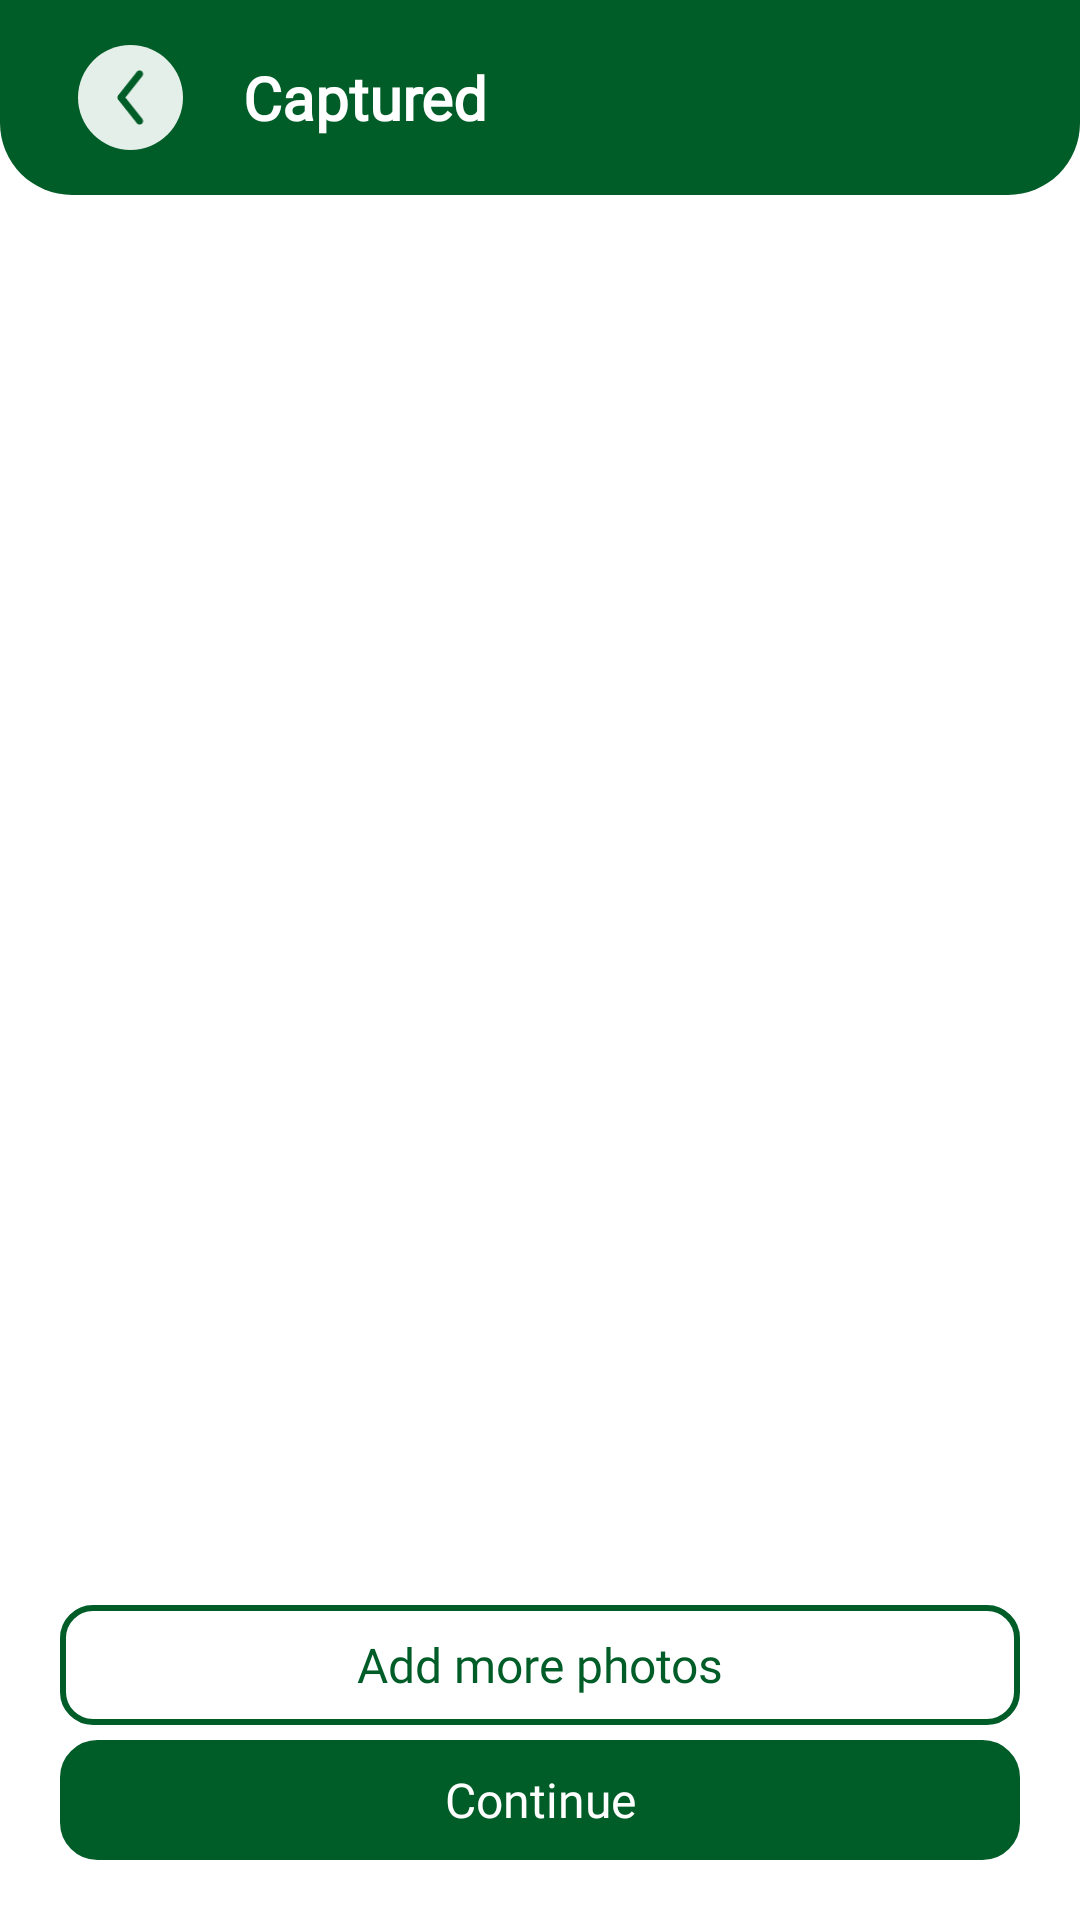

Named icons in this screenshot (1080 × 1920) and their bounding boxes, rect(x1, y1, x2, y2):
Back: rect(78, 45, 183, 150)
